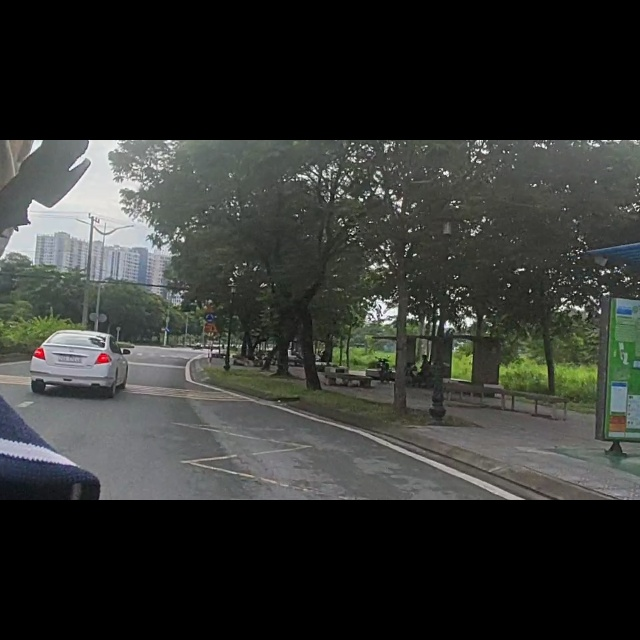bien_hieu_lenh: (209, 322, 220, 344), (206, 308, 215, 325)
